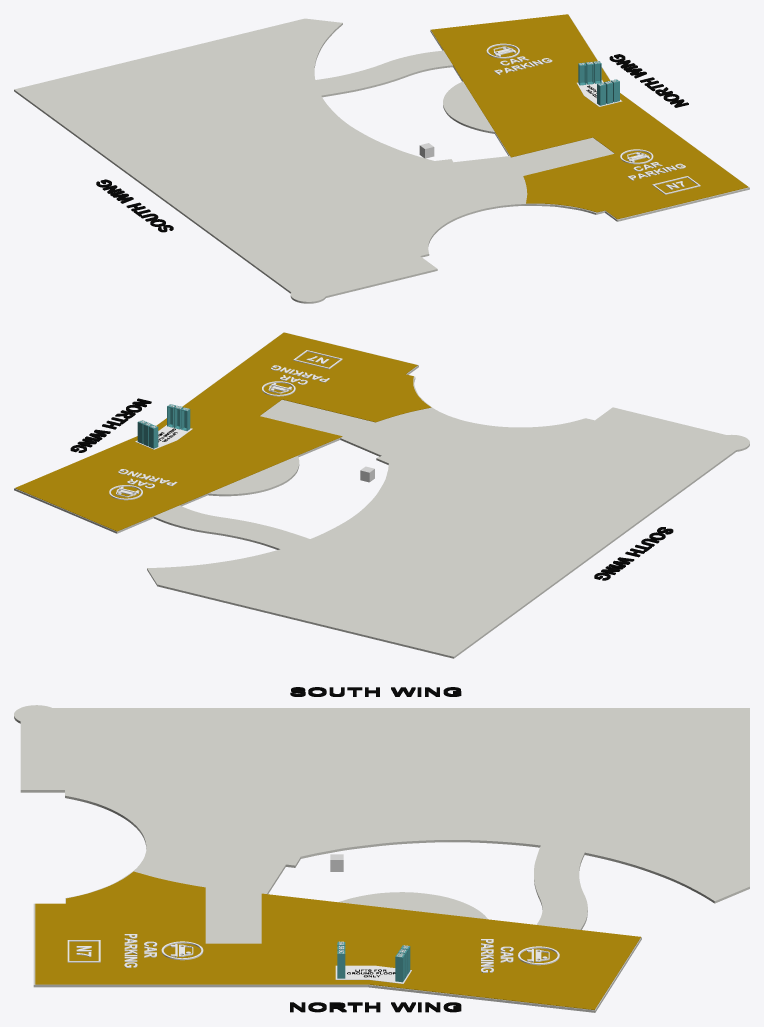
File: floor-7.glb
3 views of the same model, one above another, from view 1: azimuth 30°, elevation 25°; view 2: azimuth 150°, elevation 25°; view 3: azimuth 270°, elevation 25° (orthographic). The views are drawn at different scales.
Parts seen in each view (by area): view 1: Seventh floor; view 2: Seventh floor; view 3: Seventh floor.
Part boxes in pixels (x1=…): Seventh floor: x1=14, y1=14, x2=749, y2=303; Seventh floor: x1=14, y1=332, x2=749, y2=658; Seventh floor: x1=14, y1=687, x2=749, y2=1012.
Size of the model in its own units: 115 by 5.67 by 110.
